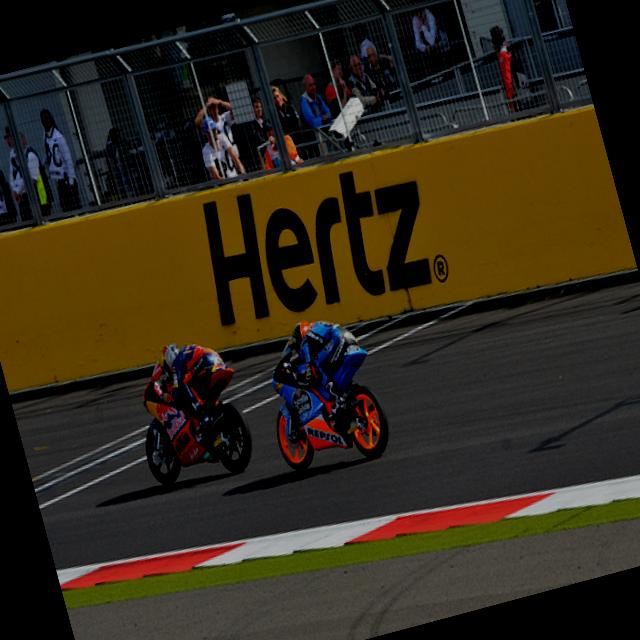Vehicle: (255, 324, 398, 481), (123, 343, 260, 493)
